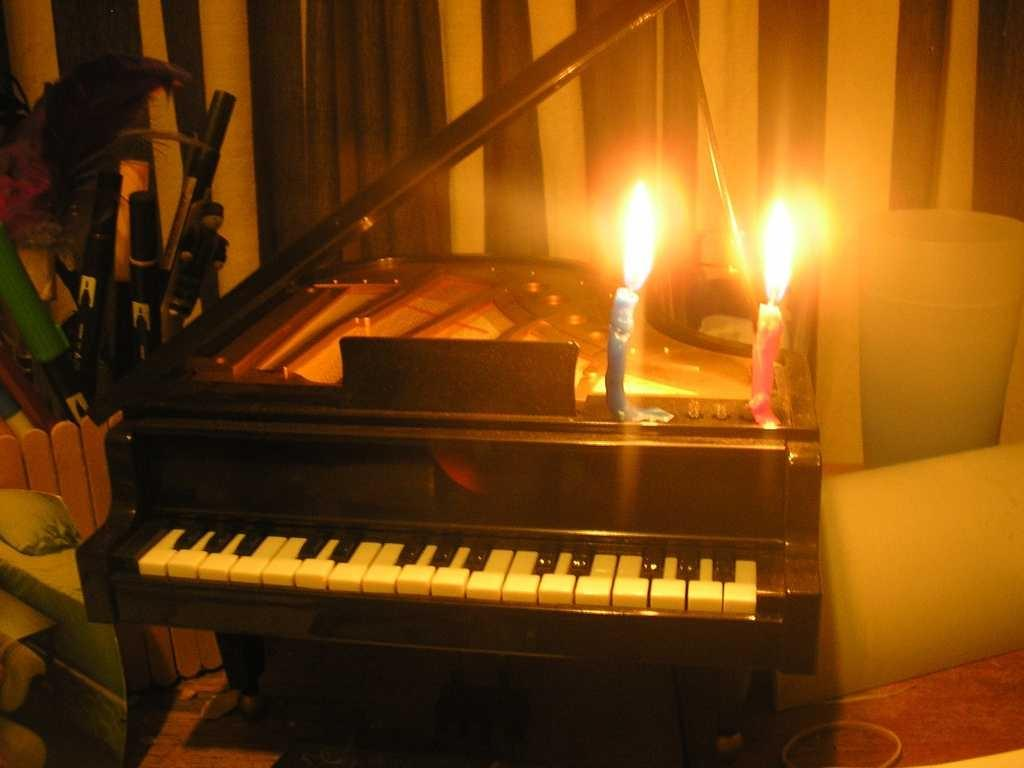fire: (758, 188, 818, 306), (612, 180, 674, 284)
